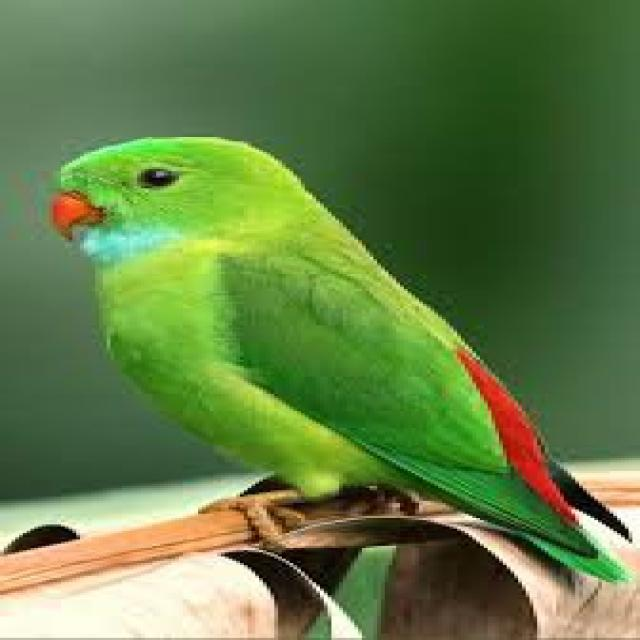Parrot: (60, 136, 580, 534)
